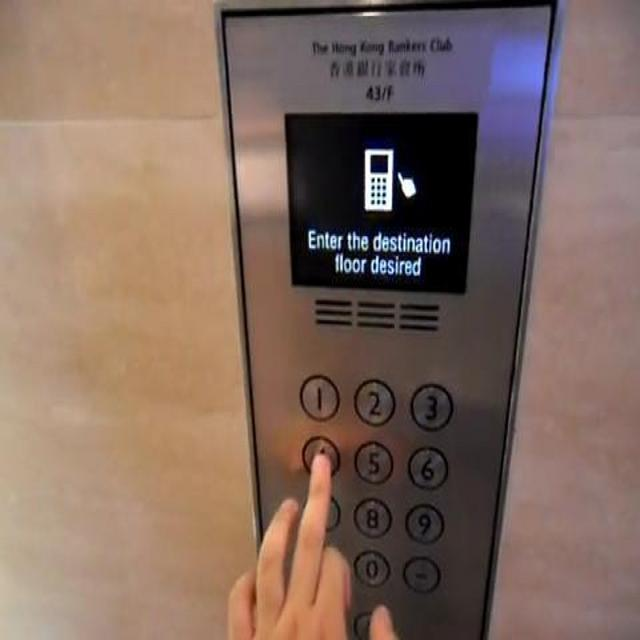-: (402, 555, 441, 593)
0: (352, 548, 391, 587)
1: (298, 373, 339, 420)
2: (351, 375, 396, 425)
3: (407, 380, 453, 431)
5: (353, 439, 393, 484)
6: (405, 444, 448, 489)
8: (351, 495, 392, 537)
9: (404, 501, 444, 544)
led: (281, 108, 477, 296)
